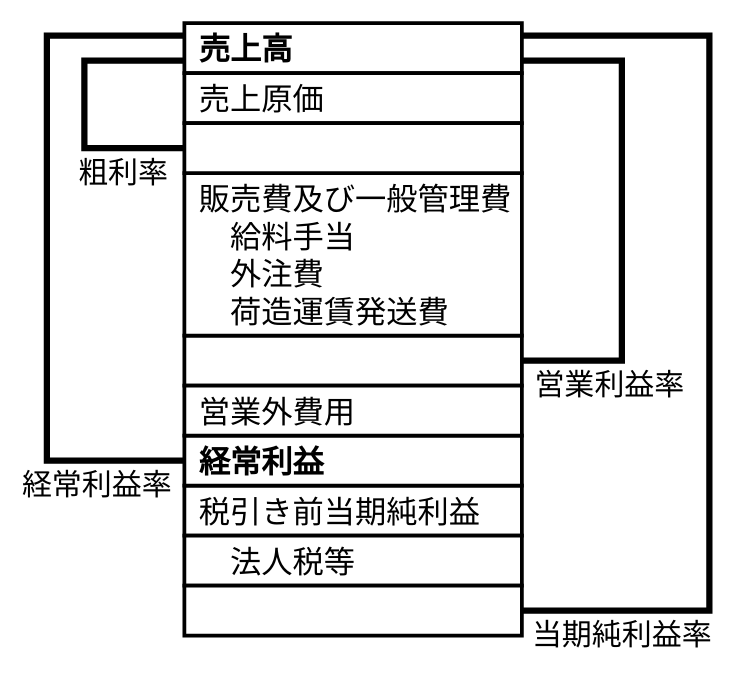
This 735x675 diagram has some shape labels left out. The shapes that lost their labels are listed below. From the top down, each one's centre as x and y in pixels, then its label:
At point (352, 147): "売上総利益（粗利）".
At point (352, 360): "営業利益".
At point (352, 610): "当期純利益".
